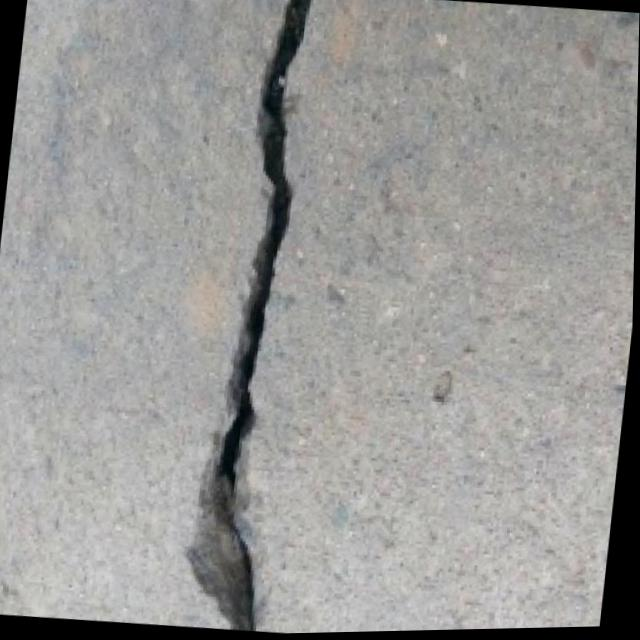Crack: (153, 0, 363, 637)
